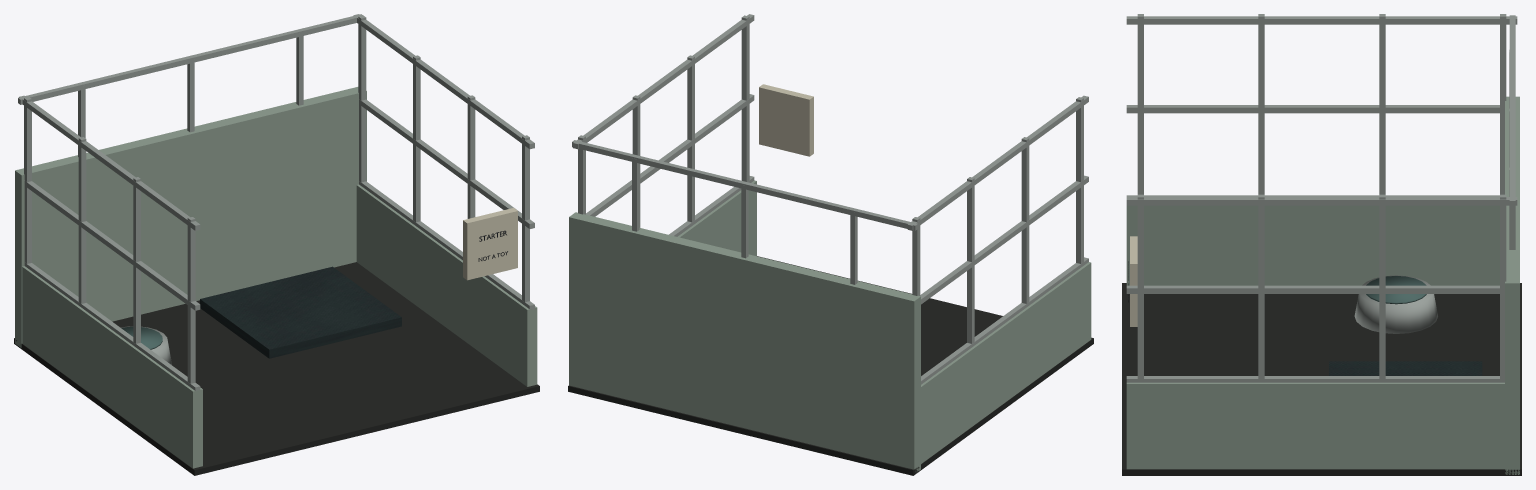
Rendered from starter-pen.glb.
3 renders of one model, left to right at view 1: azimuth 30°, elevation 25°; view 2: azimuth 150°, elevation 25°; view 3: azimuth 270°, elevation 25°, orthographic. The views are drawn at different scales.
Visible parts, largest first — view 1: Kennel back panel, Kennel rubber tray, Kennel side lower panel, Kennel side lower panel.001, Kennel blanket, Pen intake plaque, Kennel back top rail, Kennel side rail.002, Kennel side rail.005, Kennel side rail.001, Kennel side rail.004, Kennel side rail (+11 smaller); view 2: Kennel back panel, Kennel side lower panel, Kennel rubber tray, Pen intake plaque, Kennel back top rail, Kennel side lower panel.001, Kennel side rail.002, Kennel side rail.005, Kennel side rail.001, Kennel side rail.004, Kennel side rail, Kennel upright.001 (+11 smaller); view 3: Kennel side lower panel.001, Kennel rubber tray, Kennel side lower panel, Kennel back panel, Kennel side rail.005, Kennel side rail.002, Kennel side rail.001, Kennel side rail.004, Kennel side rail.003, Water bowl, Kennel blanket, Kennel back top rail (+11 smaller).
Part boxes in pixels (left/top/right/bottom): Kennel back panel: left=15, top=87, right=366, bottom=347; Kennel rubber tray: left=14, top=262, right=539, bottom=475; Kennel side lower panel: left=22, top=266, right=202, bottom=468; Kennel side lower panel.001: left=356, top=184, right=537, bottom=386; Kennel blanket: left=200, top=266, right=401, bottom=358; Pen intake plaque: left=463, top=208, right=517, bottom=280; Kennel back top rail: left=18, top=14, right=362, bottom=104; Kennel side rail.002: left=19, top=95, right=200, bottom=230; Kennel side rail.005: left=353, top=14, right=534, bottom=149; Kennel side rail.001: left=24, top=181, right=200, bottom=310; Kennel side rail.004: left=359, top=99, right=534, bottom=228; Kennel side rail: left=24, top=263, right=200, bottom=391; Kennel back panel: left=569, top=212, right=920, bottom=471; Kennel side lower panel: left=921, top=262, right=1091, bottom=463; Kennel rubber tray: left=568, top=256, right=1093, bottom=475; Pen intake plaque: left=759, top=84, right=813, bottom=156; Kennel back top rail: left=572, top=140, right=917, bottom=230; Kennel side lower panel.001: left=677, top=180, right=756, bottom=256; Kennel side rail.002: left=907, top=95, right=1088, bottom=230; Kennel side rail.005: left=573, top=14, right=754, bottom=149; Kennel side rail.001: left=920, top=175, right=1088, bottom=304; Kennel side rail.004: left=586, top=94, right=754, bottom=216; Kennel side rail: left=921, top=257, right=1088, bottom=384; Kennel upright.001: left=1021, top=137, right=1029, bottom=303; Kennel side lower panel.001: left=1126, top=382, right=1504, bottom=469; Kennel rubber tray: left=1122, top=283, right=1521, bottom=475; Kennel side lower panel: left=1126, top=205, right=1499, bottom=285; Kennel back panel: left=1505, top=96, right=1519, bottom=474; Kennel side rail.005: left=1126, top=197, right=1517, bottom=205; Kennel side rail.002: left=1126, top=16, right=1517, bottom=24; Kennel side rail.001: left=1126, top=105, right=1504, bottom=113; Kennel side rail.004: left=1126, top=285, right=1504, bottom=293; Kennel side rail.003: left=1126, top=376, right=1504, bottom=382; Water bowl: left=1354, top=275, right=1437, bottom=333; Kennel blanket: left=1329, top=361, right=1482, bottom=375; Kennel back top rail: left=1509, top=15, right=1515, bottom=206.
Size of the model in its own units: 1.9 by 1.31 by 1.72.
7 materials, 1 textured.
